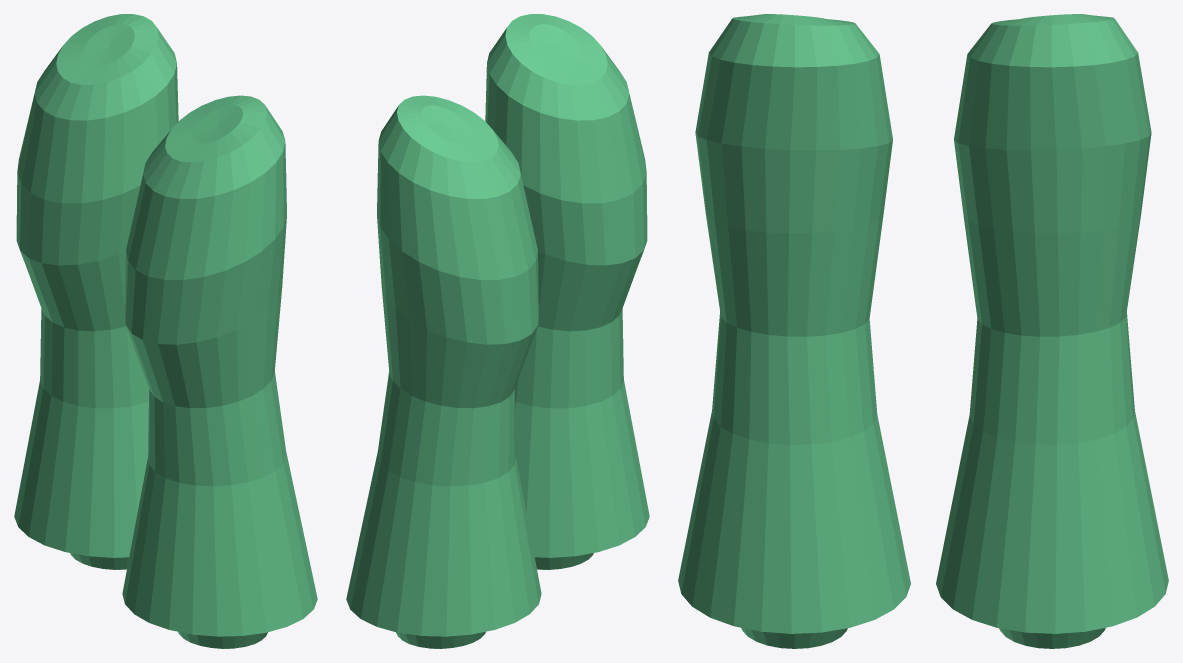
Rendered from lowerLegs_variant-1.glb.
3 views of the same model, side by side, from view 1: azimuth 30°, elevation 25°; view 2: azimuth 150°, elevation 25°; view 3: azimuth 270°, elevation 25° (orthographic). The views are drawn at different scales.
Parts seen in each view (by area): view 1: legs-lower-2; view 2: legs-lower-2; view 3: legs-lower-2.
Boxes of the visible parts, x1=… form: legs-lower-2: x1=14, y1=14, x2=317, y2=648; legs-lower-2: x1=346, y1=14, x2=649, y2=648; legs-lower-2: x1=678, y1=14, x2=1168, y2=648.
Size of the model in its own units: 0.4375 by 1.3 by 0.9147.
